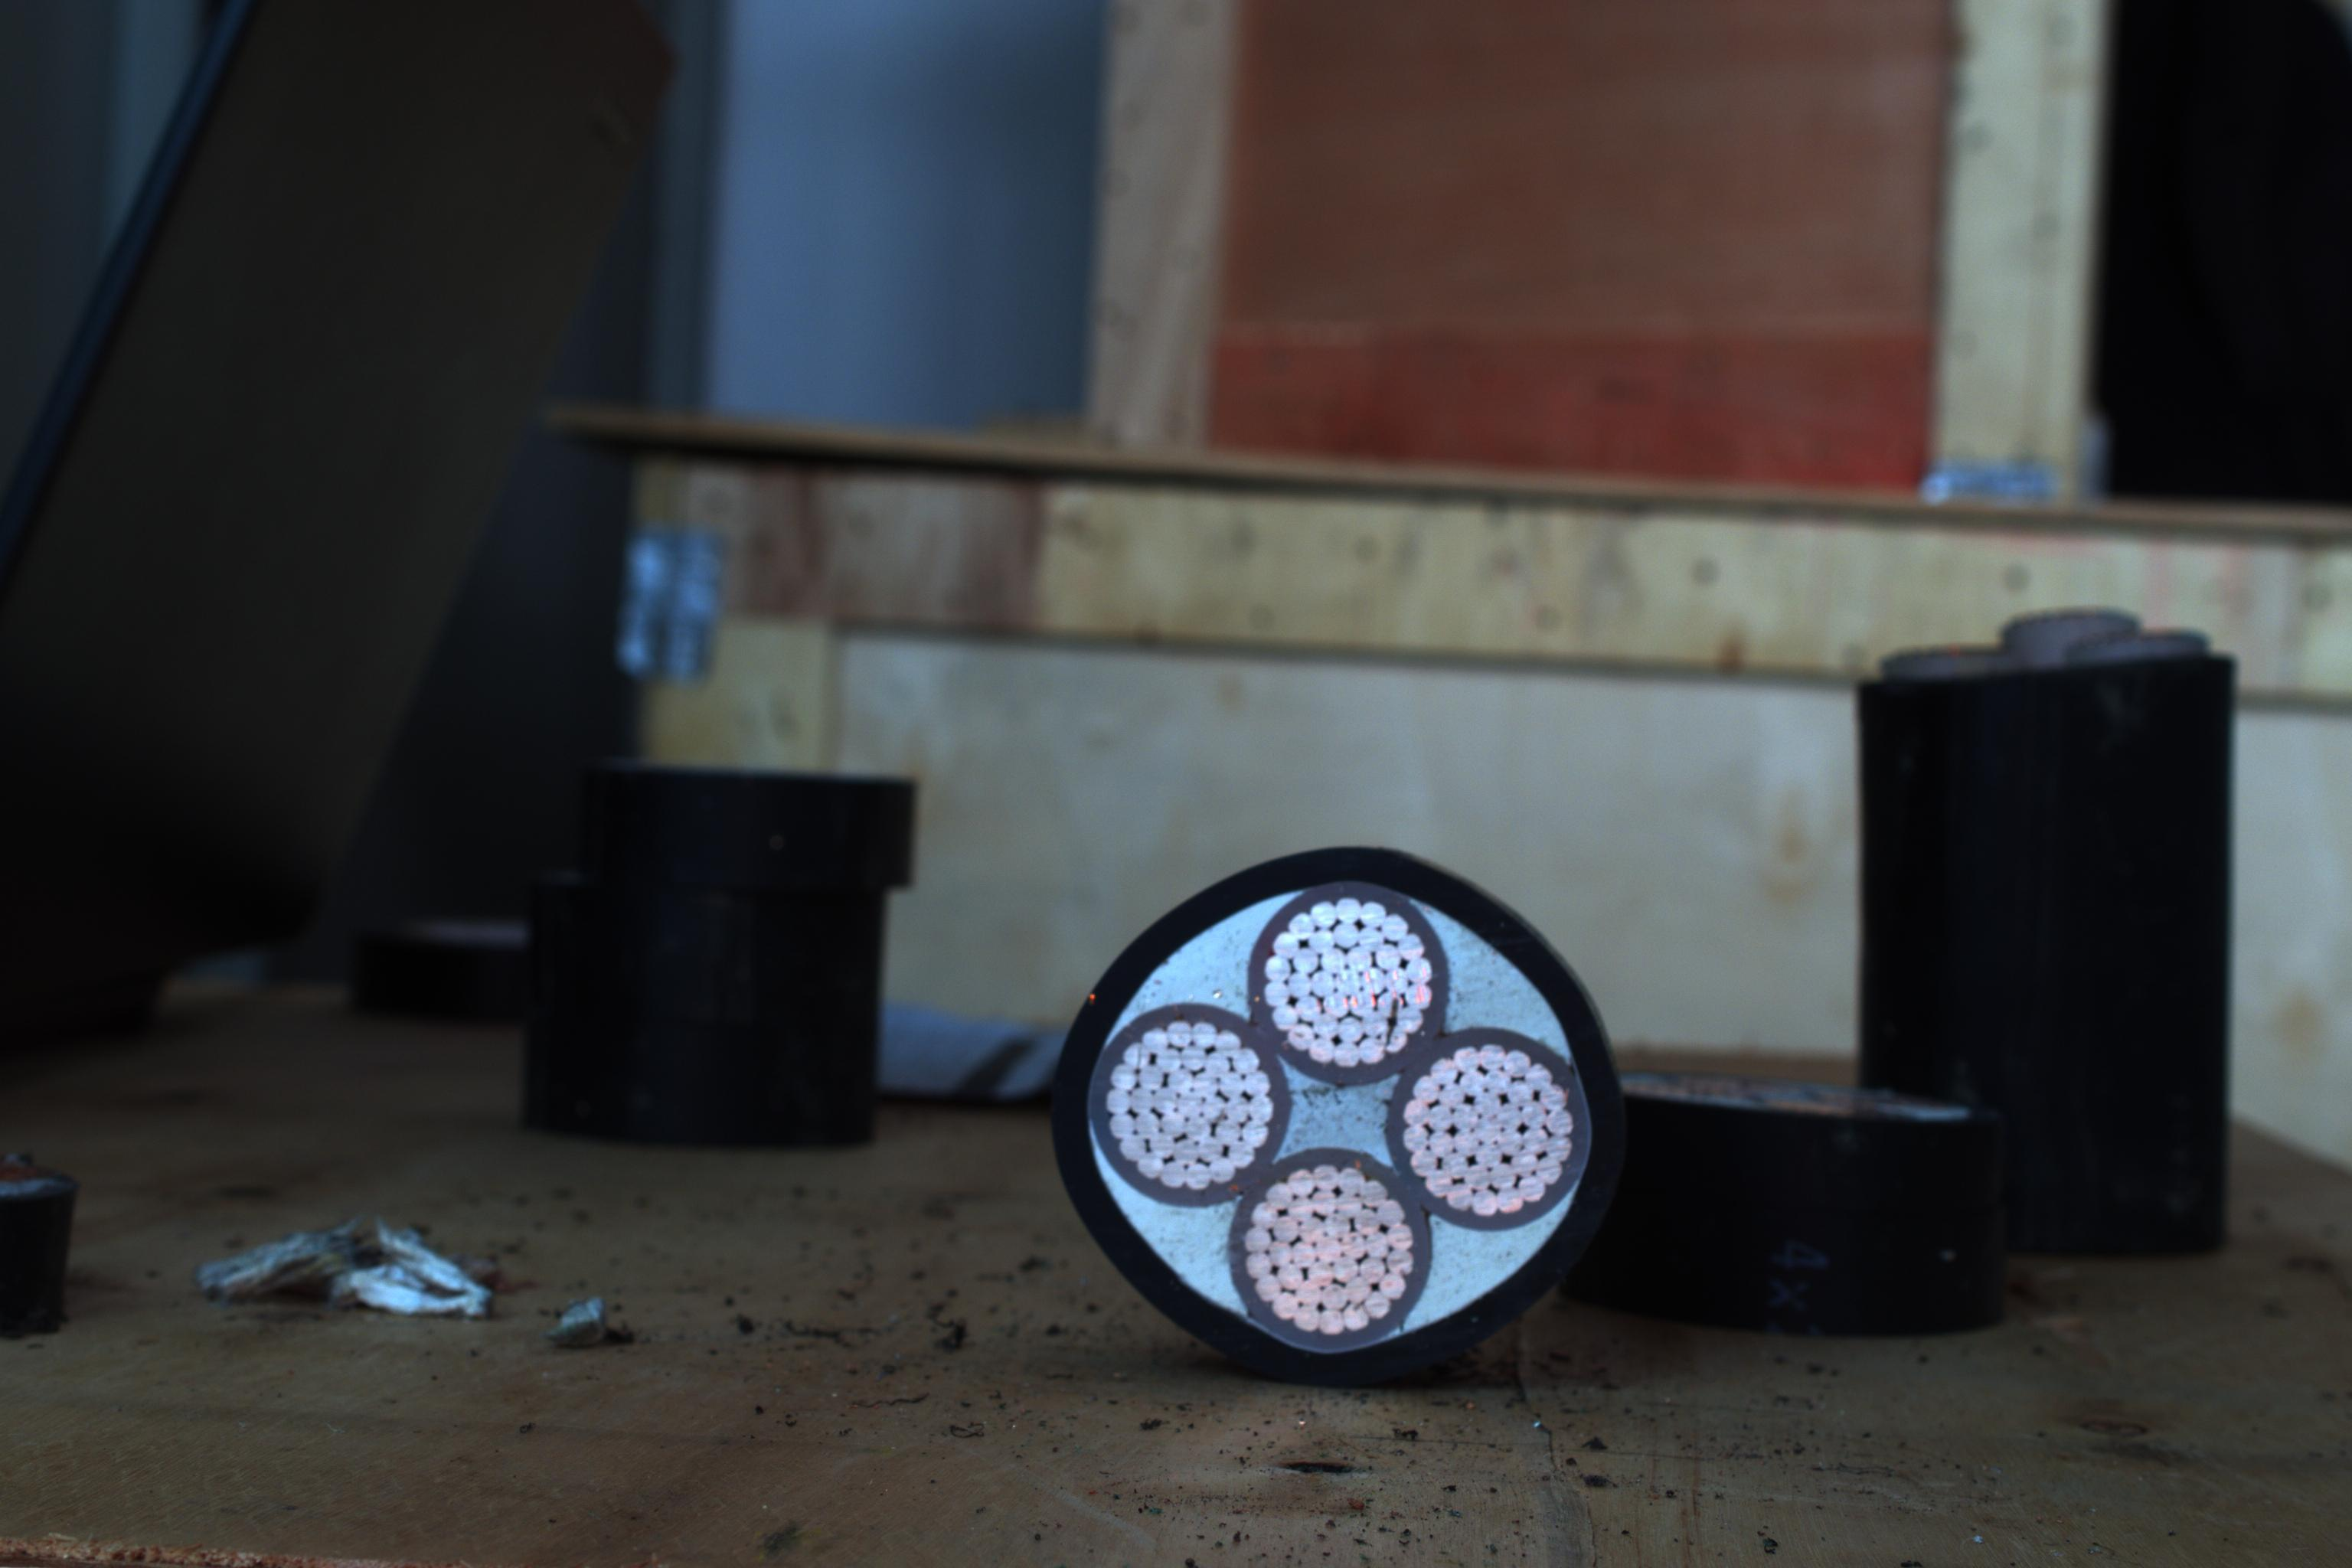YJV_0.6_1kV_4x240: (1053, 829, 1629, 1391)
